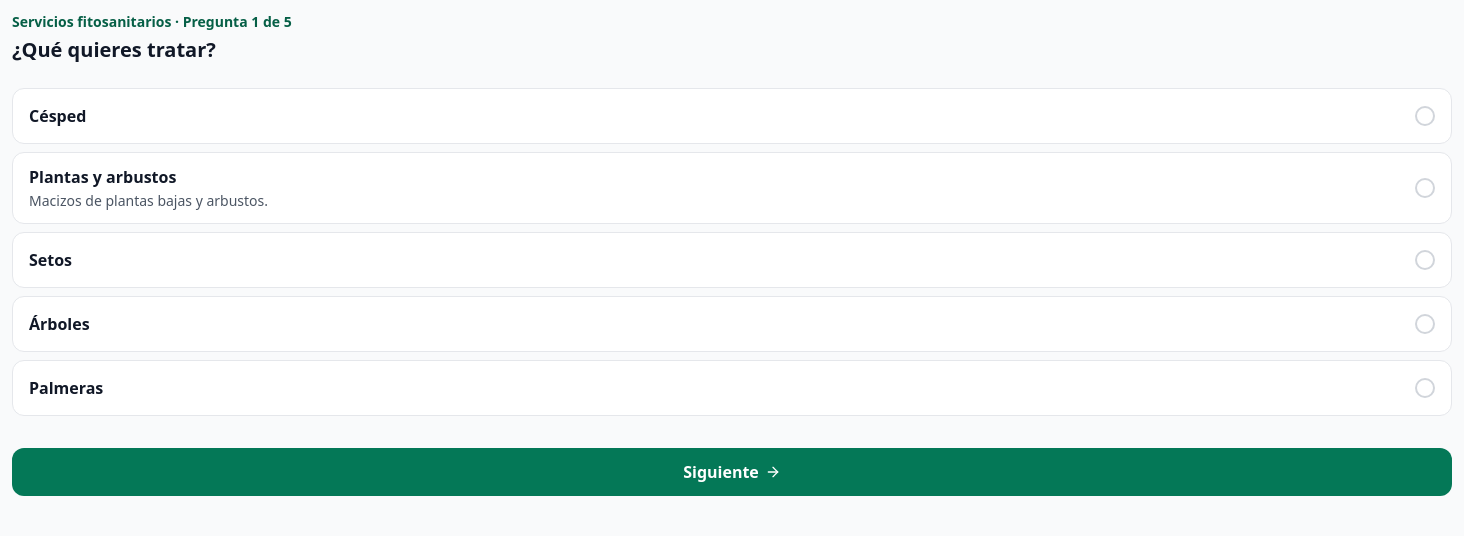
Test: fitosanitarios · cantidad y tamaño en una pantalla (D-05, P-08, D-12) › Palmeras: «¿Cuántas palmeras hay que tratar?» con el campo «Número de palmeras»
This screenshot has width=1464, height=536.
Click the radio button labelled "Palmeras": (66, 388) [12, 360, 1452, 416]
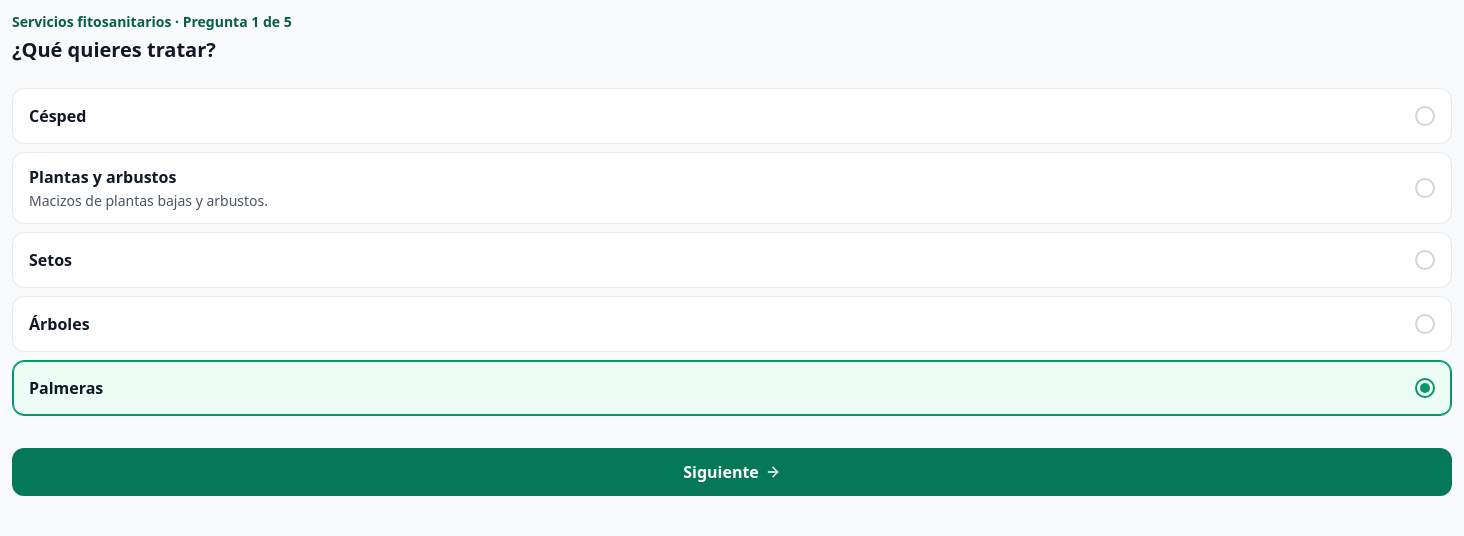
Click the button "Siguiente": (732, 472) [12, 448, 1452, 496]
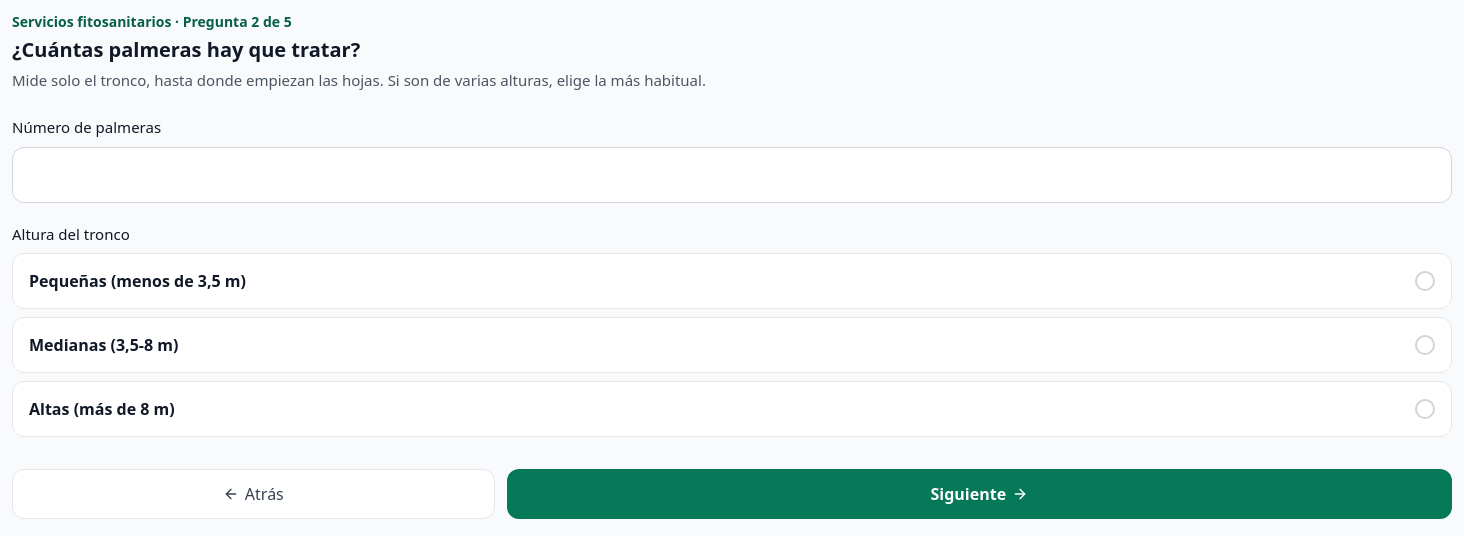
Expected: the heading reads "¿Cuántas palmeras hay que tratar?", [12, 36, 360, 63]
Expected: the field labelled "Número de palmeras" is shown, [12, 146, 1452, 202]
